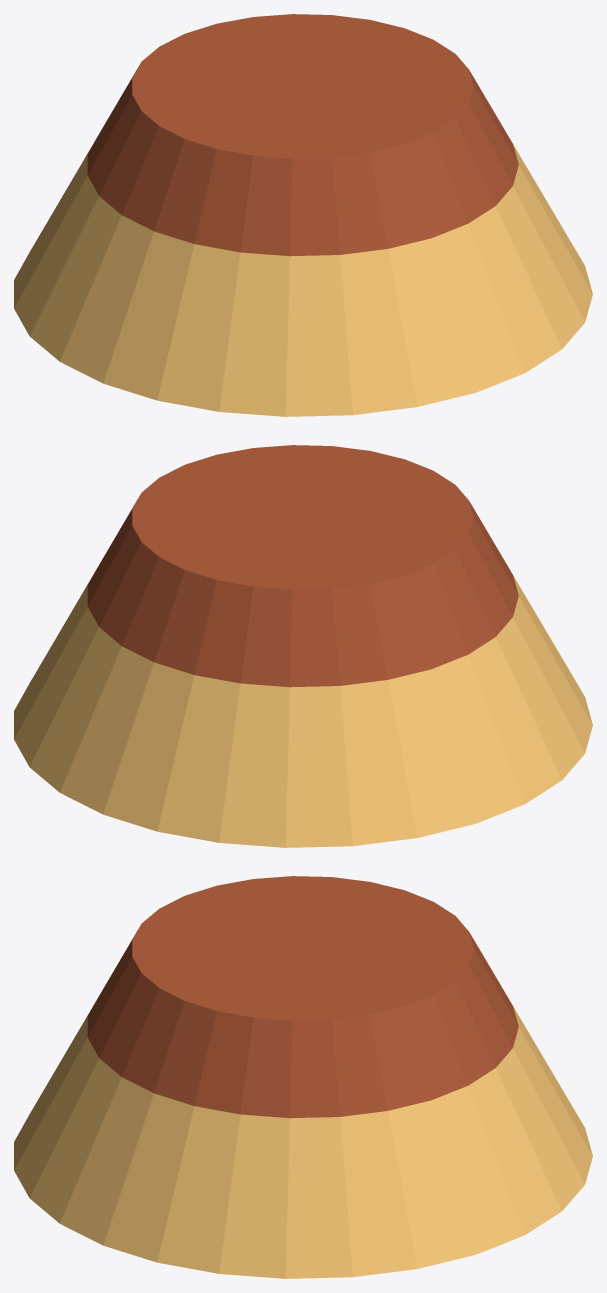
Rendered from Pudding.fbx.
3 views of the same model, one above another, from view 1: azimuth 30°, elevation 25°; view 2: azimuth 150°, elevation 25°; view 3: azimuth 270°, elevation 25° (orthographic).
Visible parts, largest first — view 1: Pudding; view 2: Pudding; view 3: Pudding.
Part boxes in pixels (x1=…): Pudding: x1=14, y1=14, x2=592, y2=416; Pudding: x1=14, y1=445, x2=592, y2=847; Pudding: x1=14, y1=876, x2=592, y2=1278.
Bounding box in the file's own units: 200 × 79.01 × 199.
